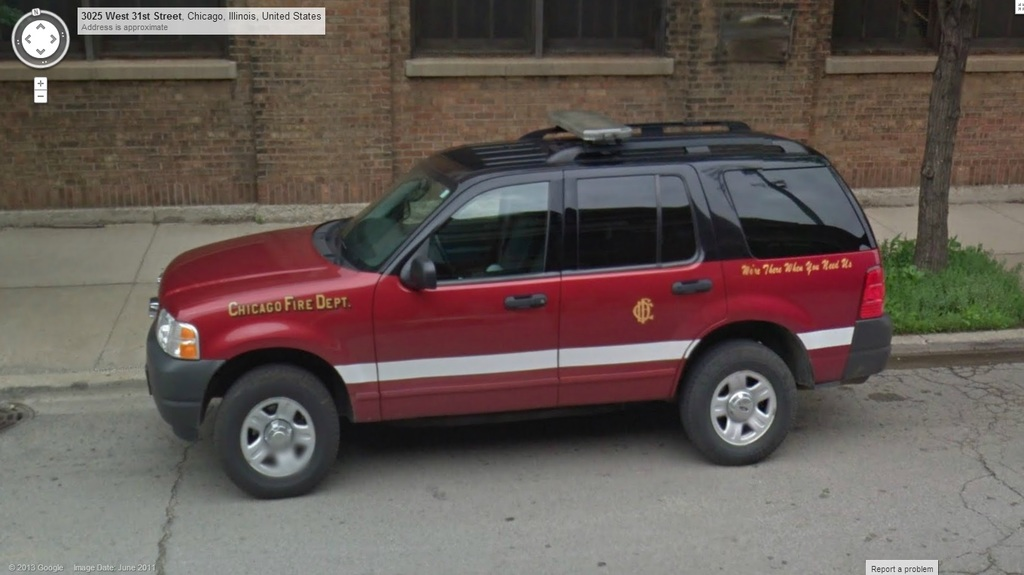Car: (147, 110, 893, 498)
